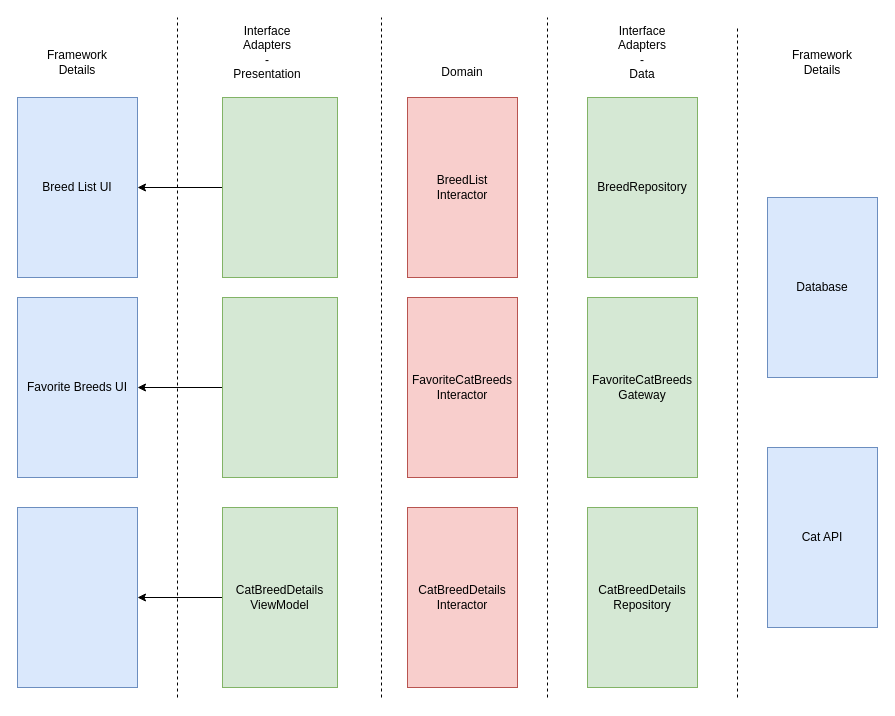
This 895x716 diagram has some shape labels left out. Here are the shapes that lost their labels. From the top down, the centre of each, then its label:
At (280,187): "CatBreedList ViewModel".
At (280,387): "FavoriteCatBreeds ViewModel".
At (77,597): "Breed Details UI".
